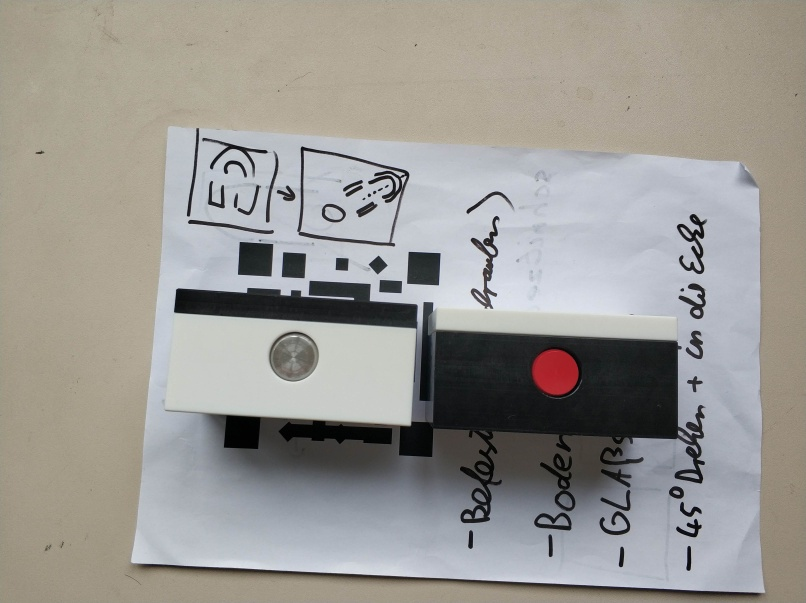black+white+silver: (167, 288, 419, 427)
white+black+red: (425, 310, 679, 440)
